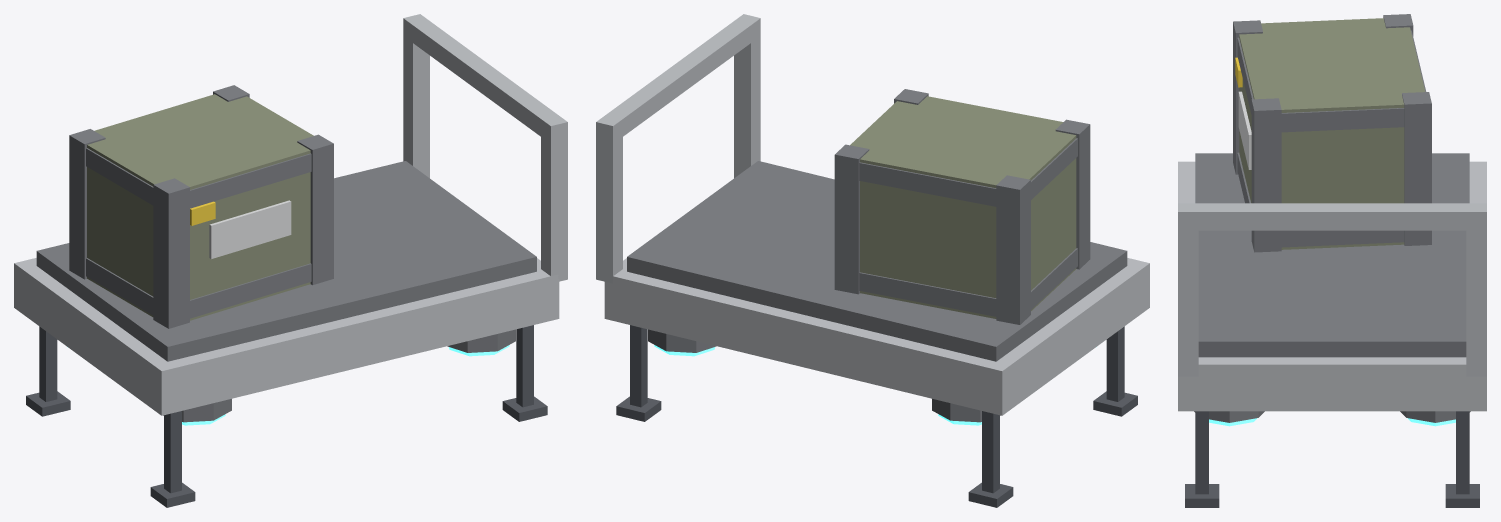
Rendered from SM_Hover_Cart.glb.
3 views of the same model, side by side, from view 1: azimuth 30°, elevation 25°; view 2: azimuth 150°, elevation 25°; view 3: azimuth 270°, elevation 25° (orthographic). The views are drawn at different scales.
Parts seen in each view (by area): view 1: SM_Hover_Cart; view 2: SM_Hover_Cart; view 3: SM_Hover_Cart.
Part boxes in pixels (box(x1,y1,x2,y2)): SM_Hover_Cart: box(14, 14, 567, 507); SM_Hover_Cart: box(596, 14, 1149, 507); SM_Hover_Cart: box(1178, 14, 1486, 507).
Size of the model in its own units: 1.43 by 0.98 by 0.9.
